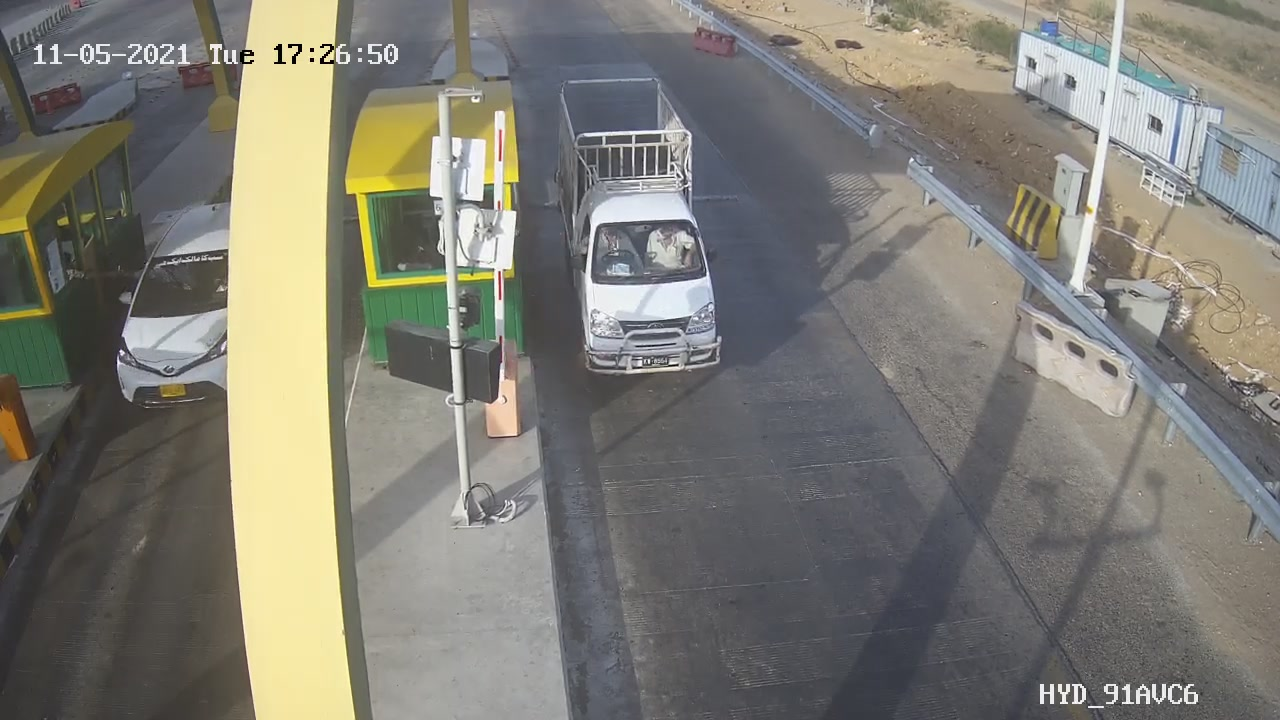F2: (535, 61, 751, 398)
